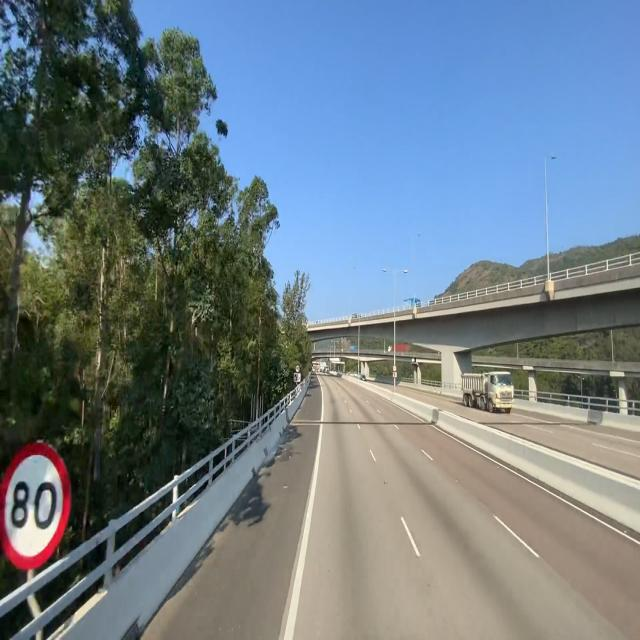Car: (461, 369, 516, 419)
